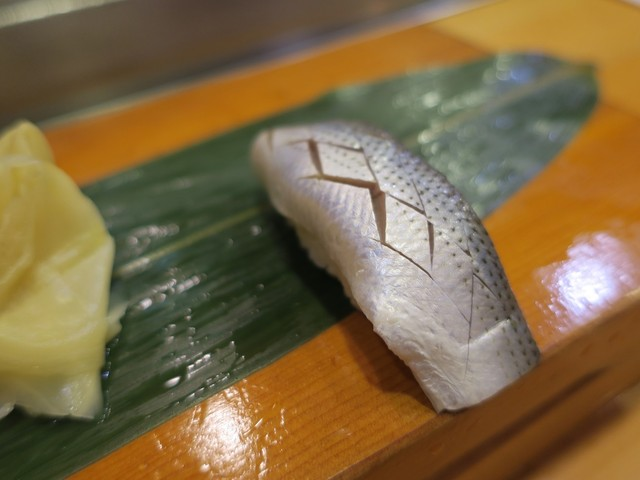spotted-shad: (246, 115, 544, 417)
